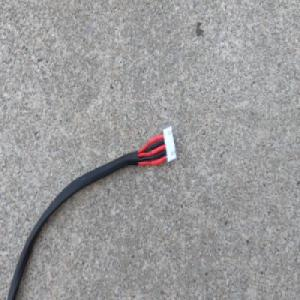Wire: (5, 123, 177, 300)
